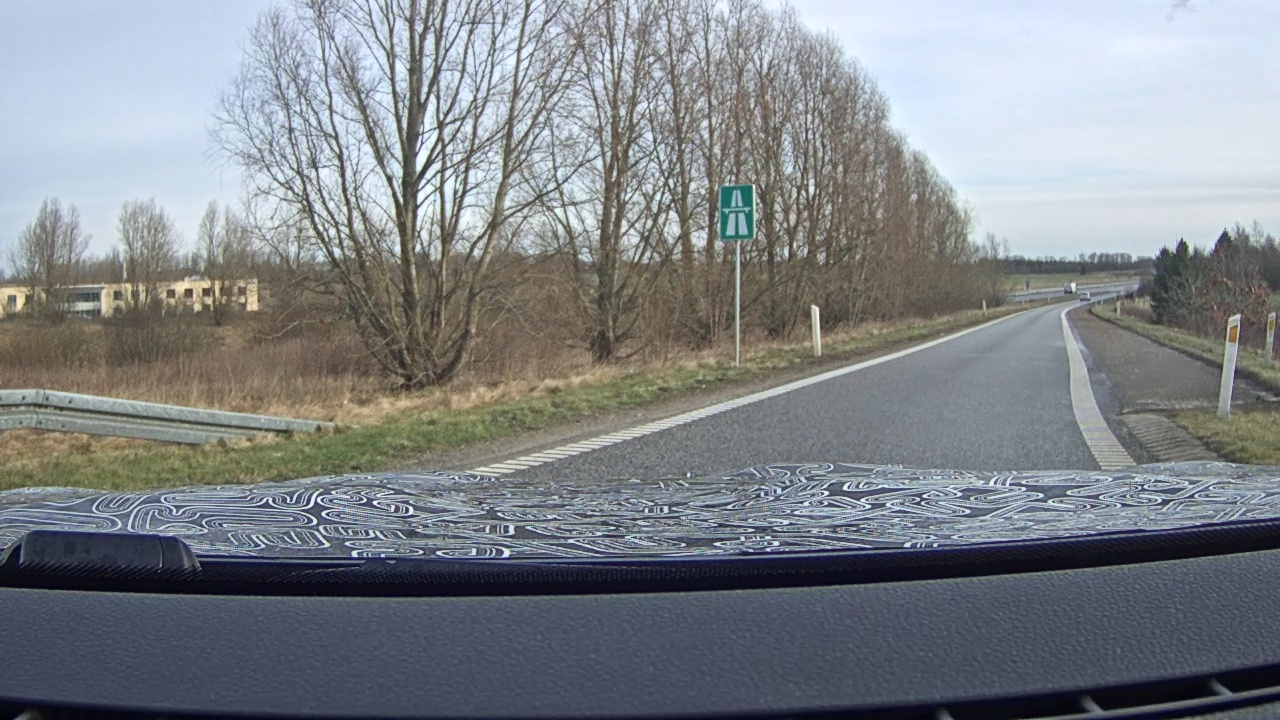Motorway_Begin: (718, 184, 756, 241)
